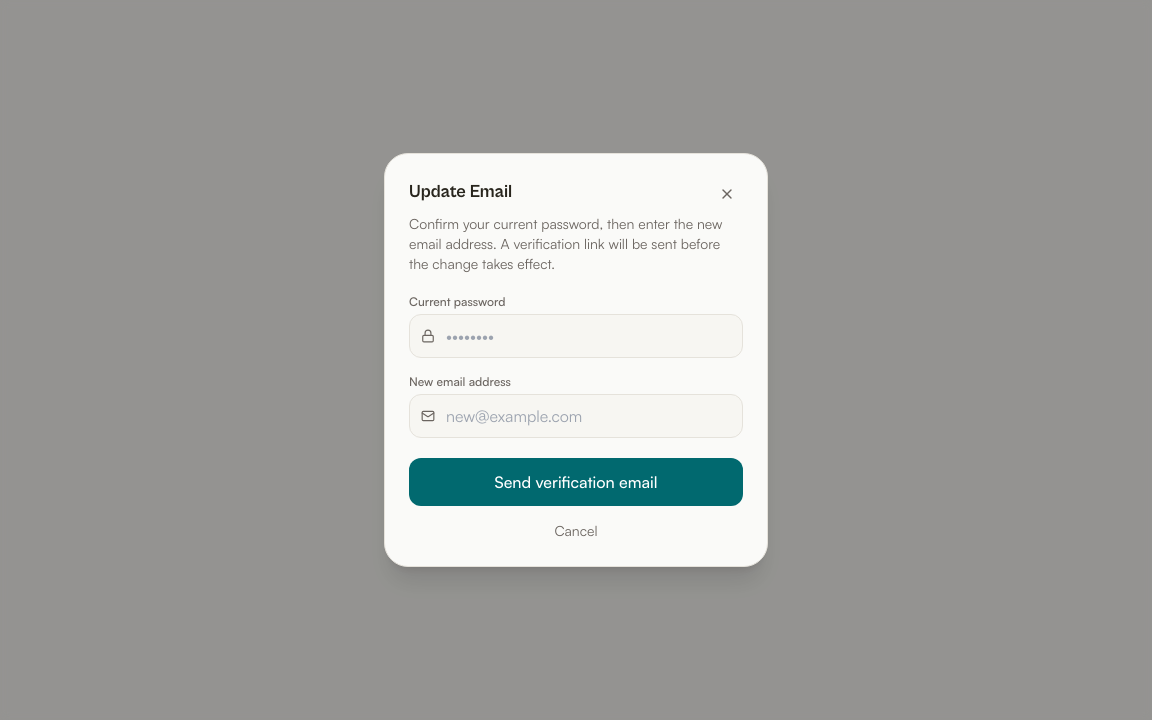
Test: EmailUpdateModal › shows inline error when current password is empty on submit
Type "new@email.com" into the field labelled "New email address" at coordinates (576, 416), box 409,394 -> 743,438
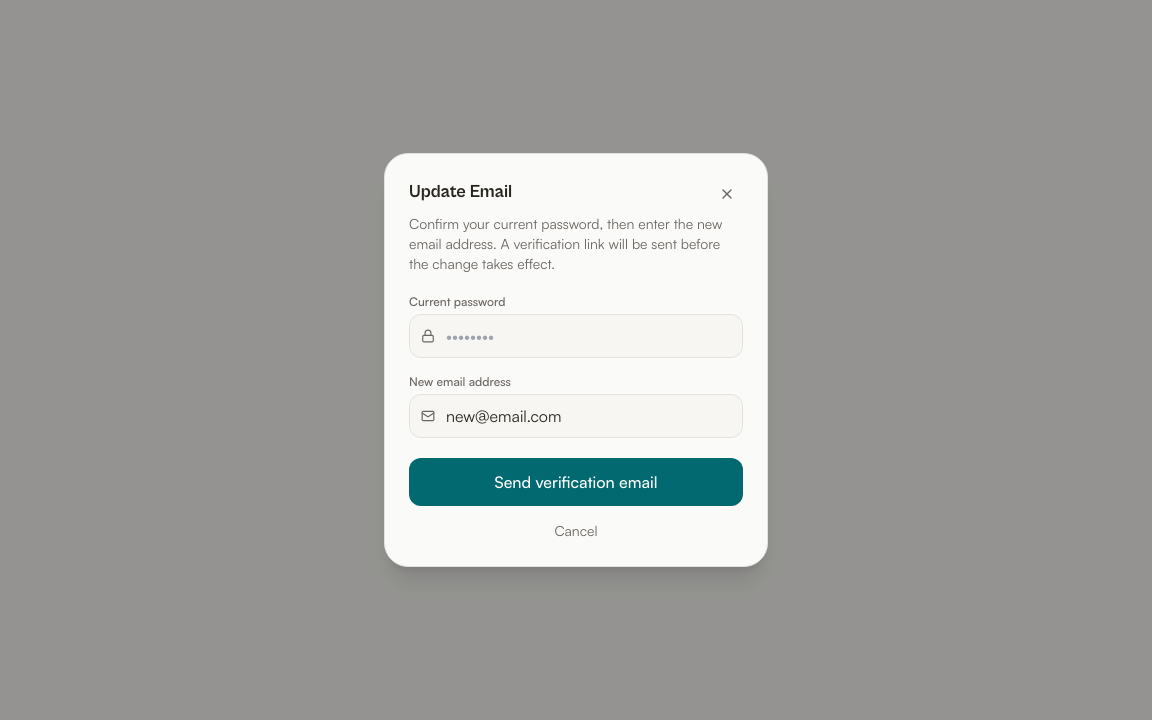
Click the button "Send verification email" at coordinates (576, 482), box 409,458 -> 743,506
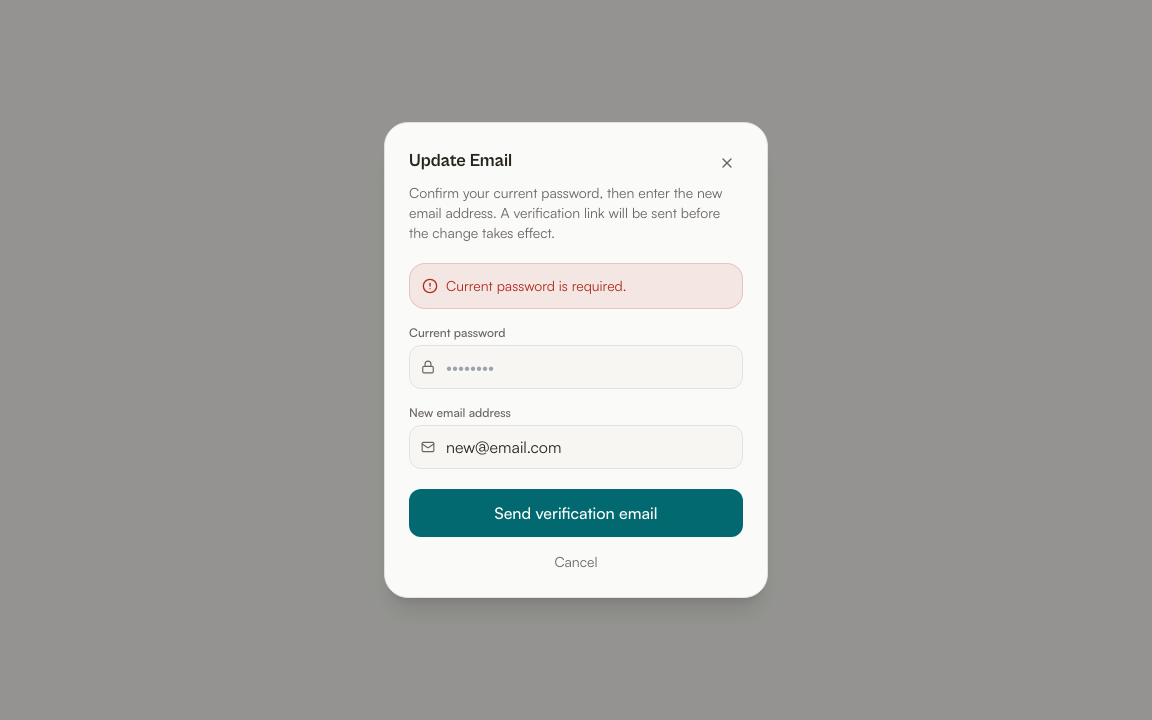
Expected: the message shows "Current password is required", 446,277 -> 626,294
